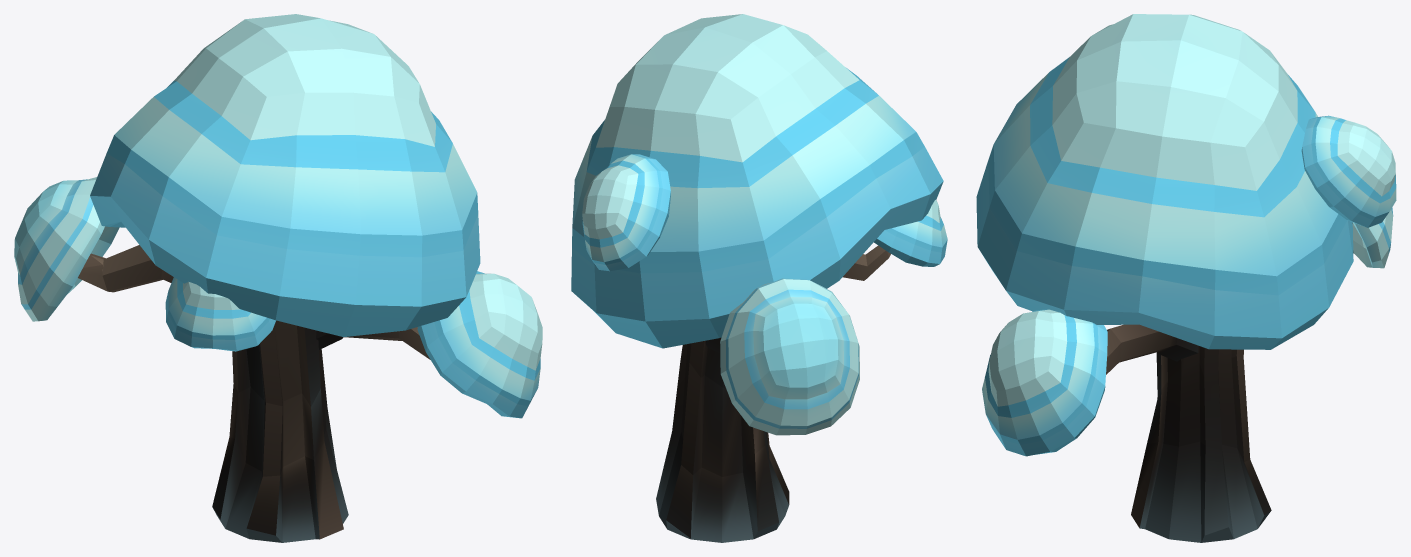
File: Tree_Medium_F.fbx
The picture shows the model from 3 angles, left to right: view 1: azimuth 30°, elevation 25°; view 2: azimuth 150°, elevation 25°; view 3: azimuth 270°, elevation 25°; orthographic projection. The views are drawn at different scales.
Visible parts, largest first — view 1: Tree_Medium_F; view 2: Tree_Medium_F; view 3: Tree_Medium_F.
Part boxes in pixels (x1=…): Tree_Medium_F: x1=14, y1=14, x2=542, y2=542; Tree_Medium_F: x1=571, y1=14, x2=947, y2=542; Tree_Medium_F: x1=976, y1=14, x2=1396, y2=542.
Bounding box in the file's own units: 170 × 217 × 169.
